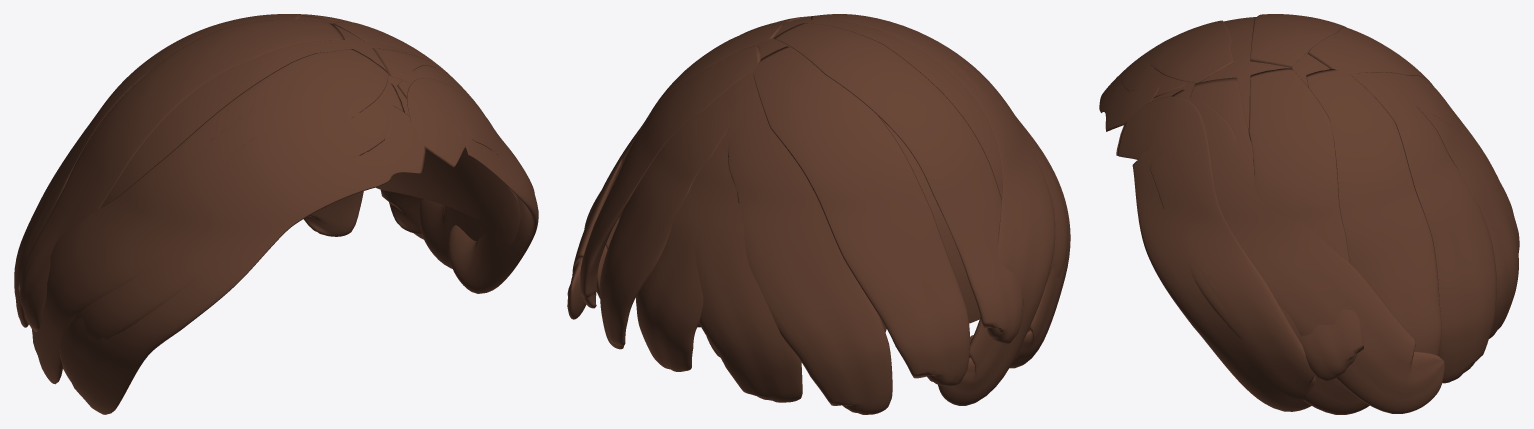
The model's file is Masculine-Masculine-flow-cap261-hair-7cb783ac.glb.
3 views of the same model, side by side, from view 1: azimuth 30°, elevation 25°; view 2: azimuth 150°, elevation 25°; view 3: azimuth 270°, elevation 25° (orthographic). The views are drawn at different scales.
Visible parts, largest first — view 1: 226 hair / Hair260 / layered flow; view 2: 226 hair / Hair260 / layered flow; view 3: 226 hair / Hair260 / layered flow.
Part boxes in pixels (x1,y1,x2,y2): 226 hair / Hair260 / layered flow: [14, 14, 538, 414]; 226 hair / Hair260 / layered flow: [567, 14, 1070, 414]; 226 hair / Hair260 / layered flow: [1099, 14, 1519, 414].
Bounding box in the file's own units: 0.8859 × 0.598 × 0.7508.
